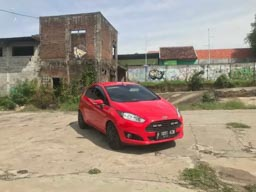plat: (156, 128, 174, 139)
